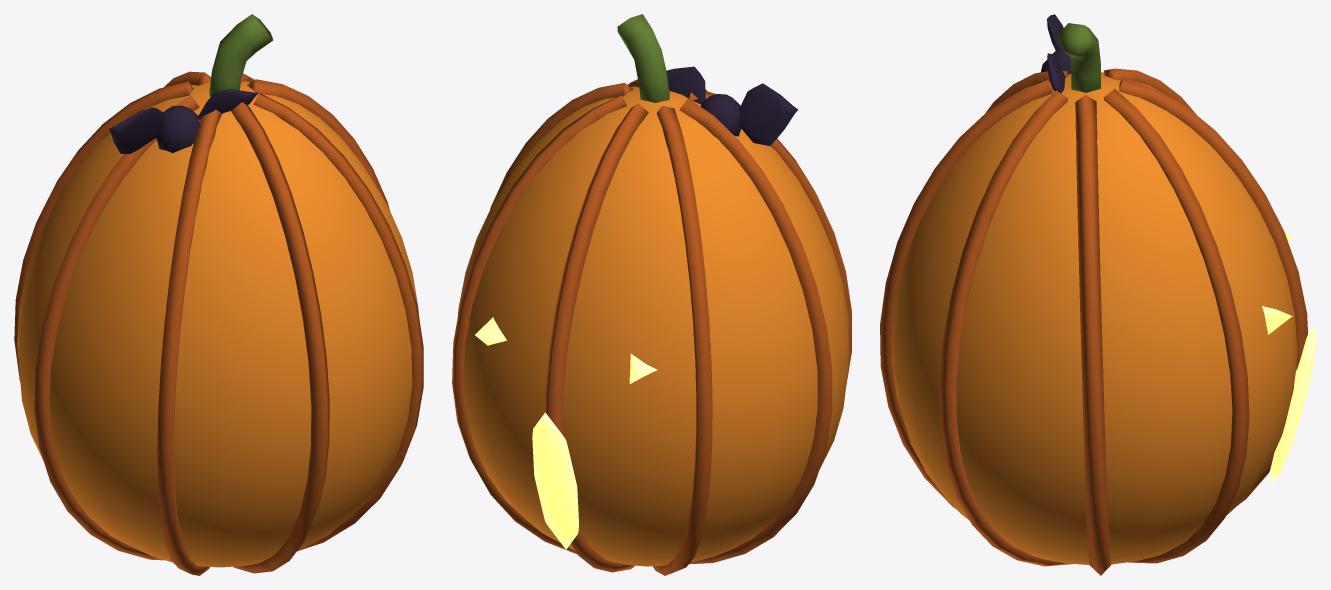
File: EggSpooky.glb
3 views of the same model, side by side, from view 1: azimuth 30°, elevation 25°; view 2: azimuth 150°, elevation 25°; view 3: azimuth 270°, elevation 25° (orthographic). The views are drawn at different scales.
Visible parts, largest first — view 1: Body; view 2: Body, Glow; view 3: Body, Glow.
Boxes of the visible parts, box(x1,y1,x2,y2) form: Body: box(14, 14, 423, 575); Body: box(452, 14, 851, 575); Glow: box(475, 317, 657, 549); Body: box(880, 14, 1307, 575); Glow: box(1262, 234, 1316, 483).
Size of the model in its own units: 2.01 by 2.81 by 2.05.
Materials: 2 (1 with a texture image).
